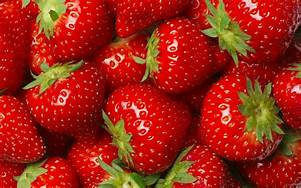Fresa: (99, 75, 199, 178), (190, 68, 287, 169), (18, 56, 106, 148), (140, 11, 233, 98), (209, 1, 301, 68), (42, 1, 119, 63), (1, 91, 51, 167)
